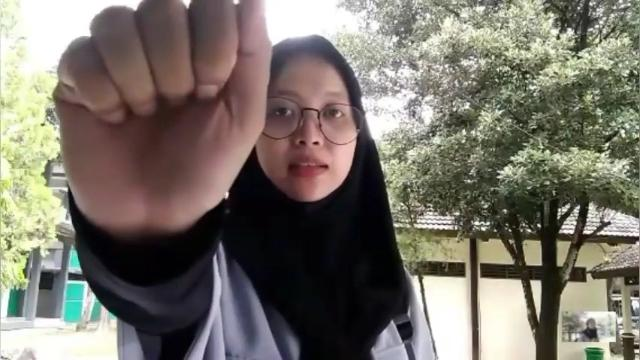S: (47, 1, 276, 226)
